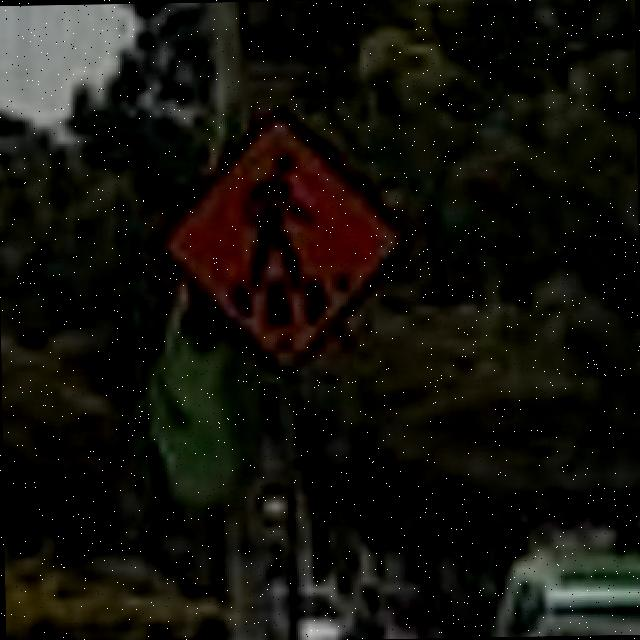Przejscie dla pieszych: (165, 130, 402, 356)
